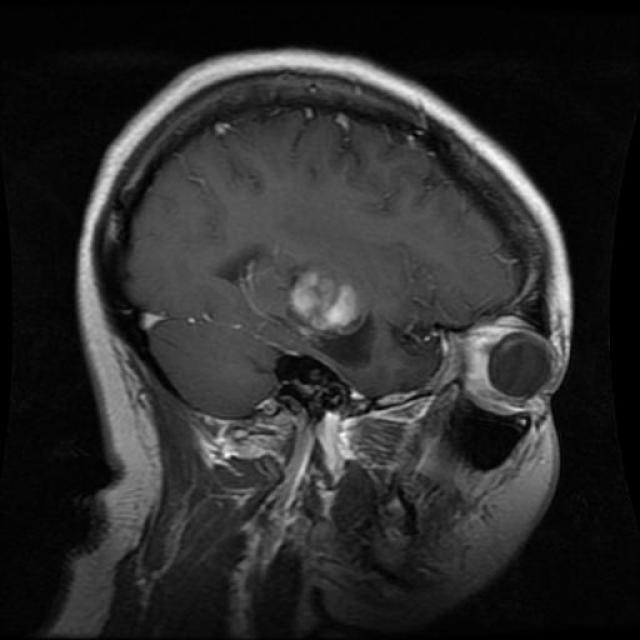glioma: (286, 264, 366, 345)
